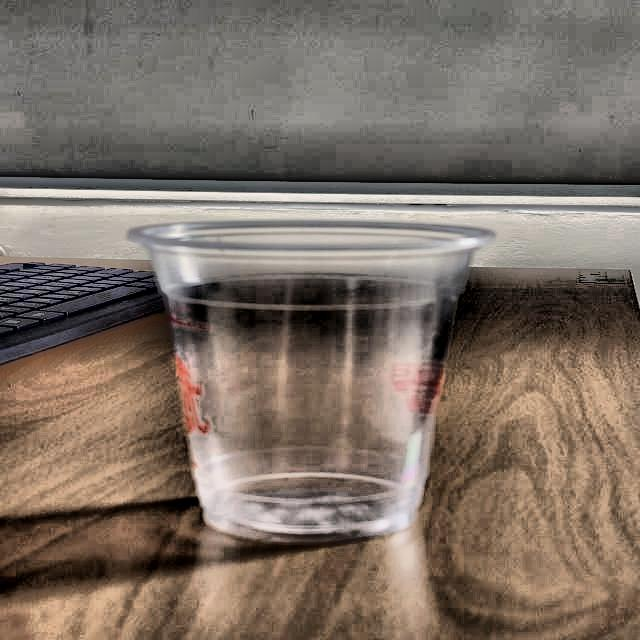plastic cup: (116, 218, 499, 546)
